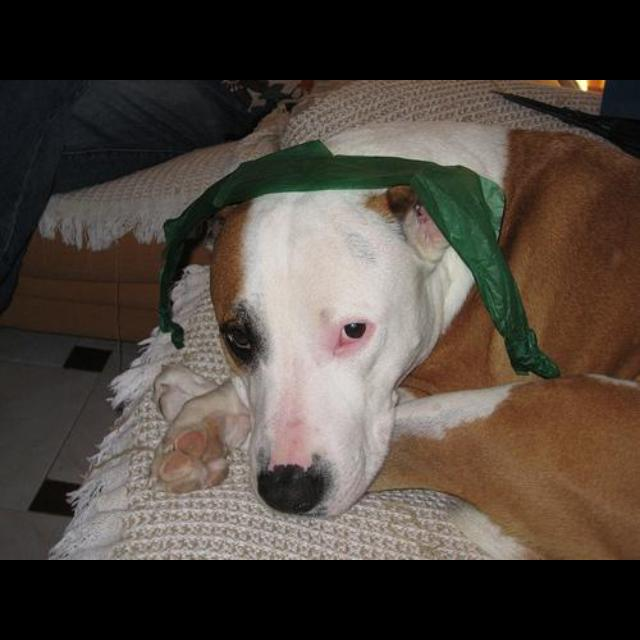amstaff: (149, 119, 640, 560)
